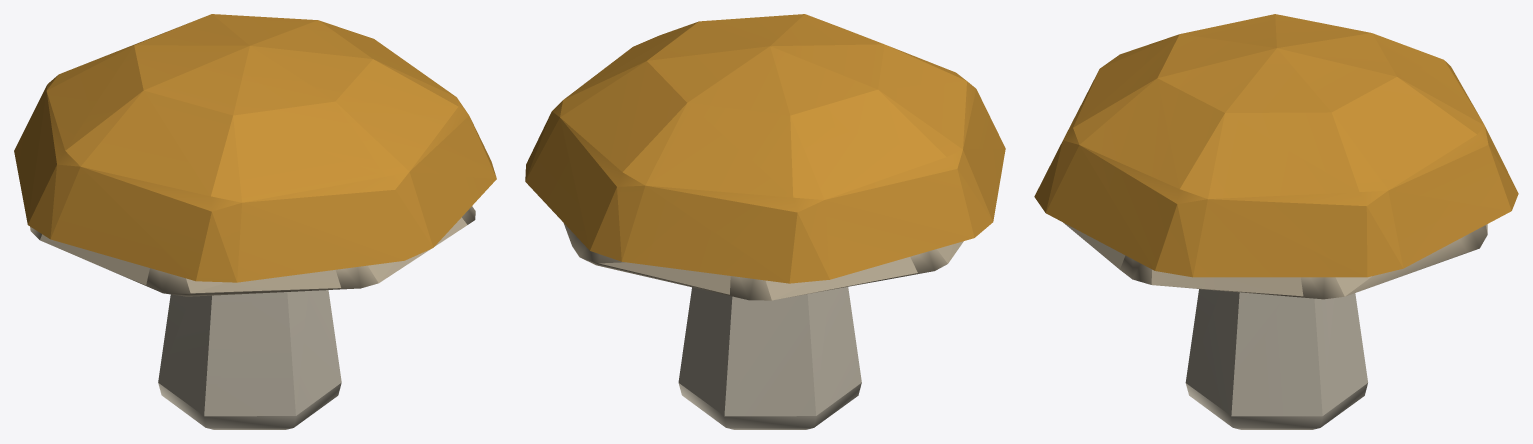
Rendered from prop_toadstoolYellow_lod1.glb.
3 views of the same model, side by side, from view 1: azimuth 30°, elevation 25°; view 2: azimuth 150°, elevation 25°; view 3: azimuth 270°, elevation 25° (orthographic).
Parts seen in each view (by area): view 1: prop_toadstoolYellow_lod1; view 2: prop_toadstoolYellow_lod1; view 3: prop_toadstoolYellow_lod1.
Part boxes in pixels (<box>): prop_toadstoolYellow_lod1: <box>14,14,496,429</box>; prop_toadstoolYellow_lod1: <box>525,14,1005,429</box>; prop_toadstoolYellow_lod1: <box>1034,14,1518,429</box>.
Size of the model in its own units: 0.6155 by 0.51 by 0.6294.
